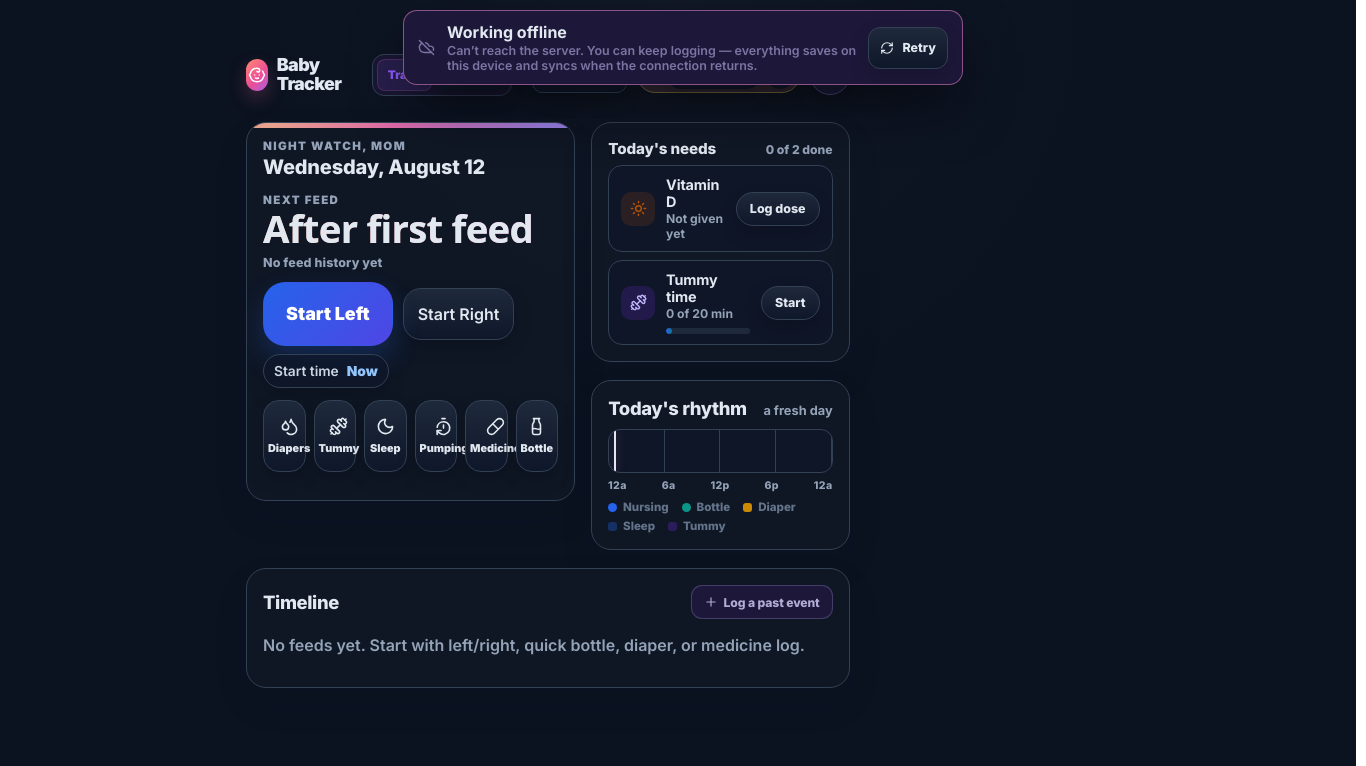
Scenario: App interactions › end feed creates entry and persists to localStorage
The image size is (1366, 766).
Click the button with aria-label "Start suggested side: Left": (328, 314) [263,282,393,346]
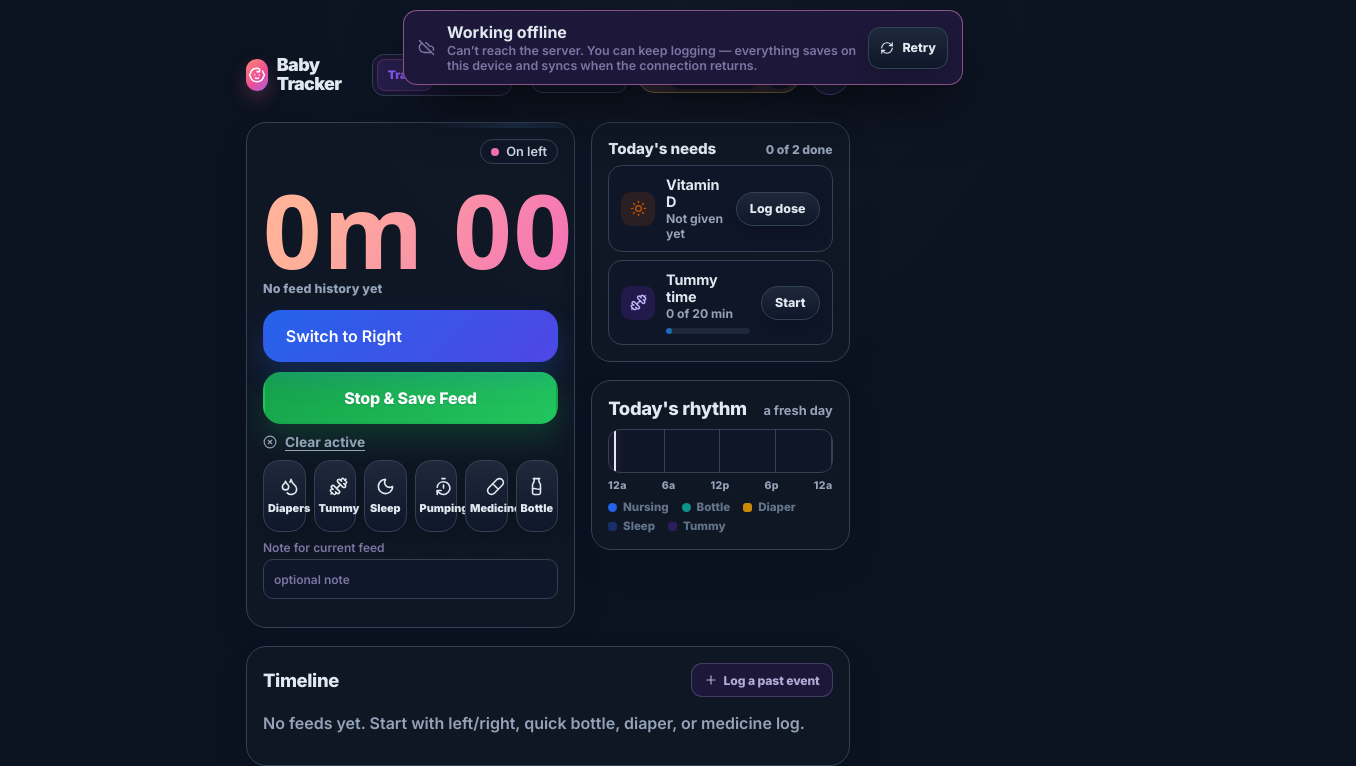
Expected: the button with aria-label "End feed" is shown
Click the button with aria-label "End feed": (410, 398) [263,372,558,424]
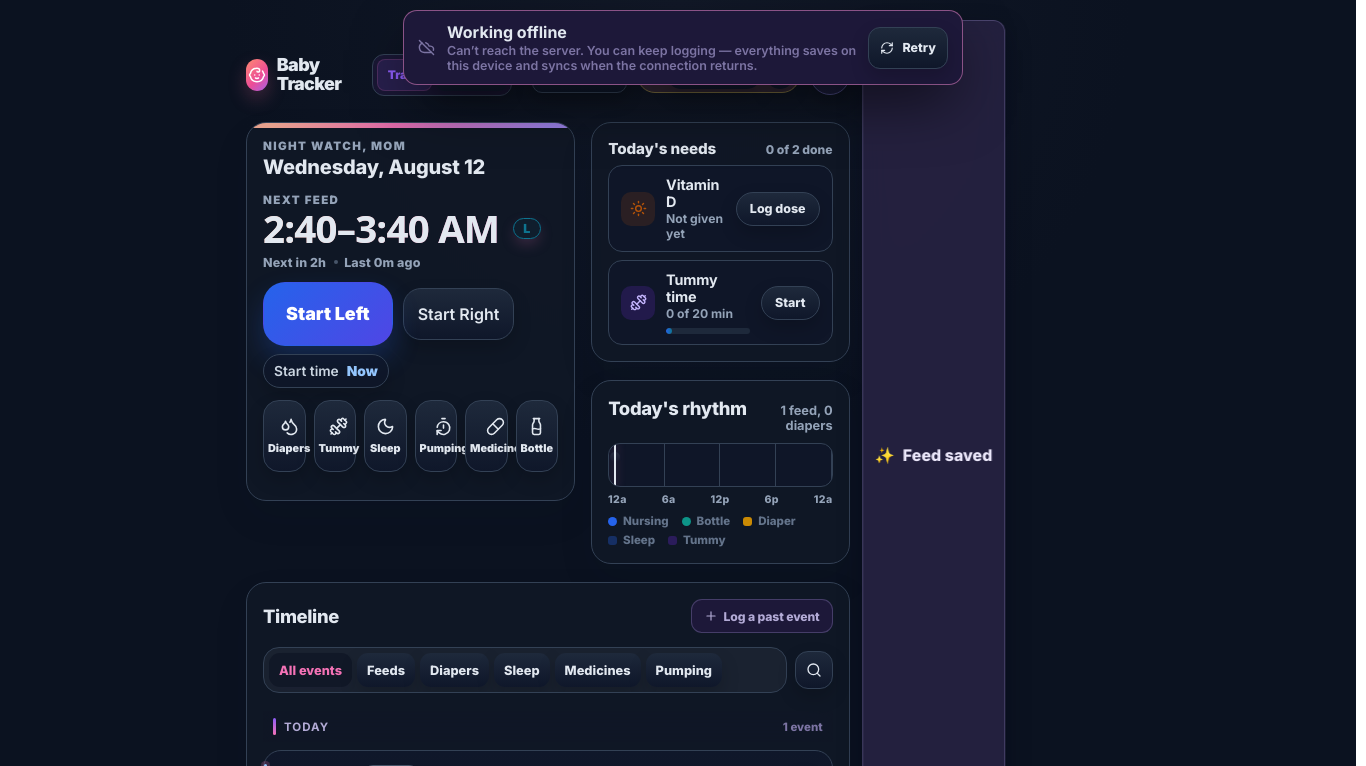
Expected: the text "Feed saved" is shown, [903,445,992,465]
